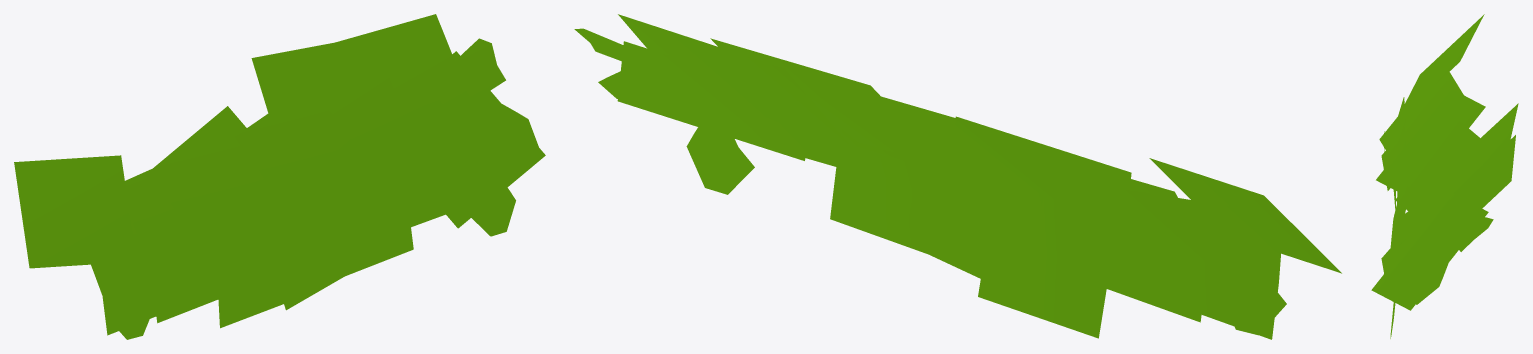
The model's file is Prop_Vine7.fbx.
3 views of the same model, side by side, from view 1: azimuth 30°, elevation 25°; view 2: azimuth 150°, elevation 25°; view 3: azimuth 270°, elevation 25° (orthographic). The views are drawn at different scales.
Visible parts, largest first — view 1: Prop_Vine7; view 2: Prop_Vine7; view 3: Prop_Vine7.
Boxes of the visible parts, box(x1,y1,x2,y2) form: Prop_Vine7: box(14, 14, 545, 339); Prop_Vine7: box(574, 14, 1341, 339); Prop_Vine7: box(1371, 14, 1518, 338).
Bounding box in the file's own units: 414 × 157 × 113.
